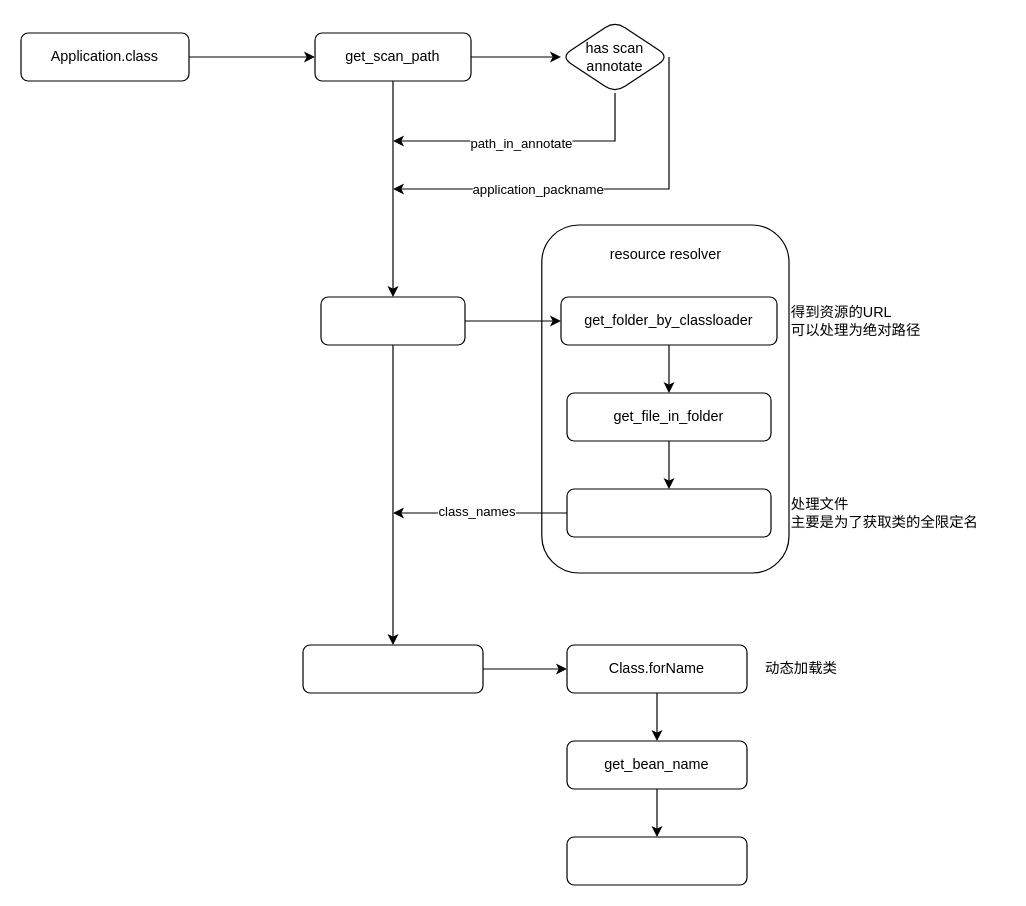
Image size: 1026x906. Some labels were removed from this diagram. Each missing label, with the box of its shape:
create_bean_definitions: (302, 644, 483, 693)
get_class_names: (320, 296, 465, 345)
new BeanDefinitions: (566, 836, 747, 885)
获取类的全限定名: (566, 488, 771, 537)
